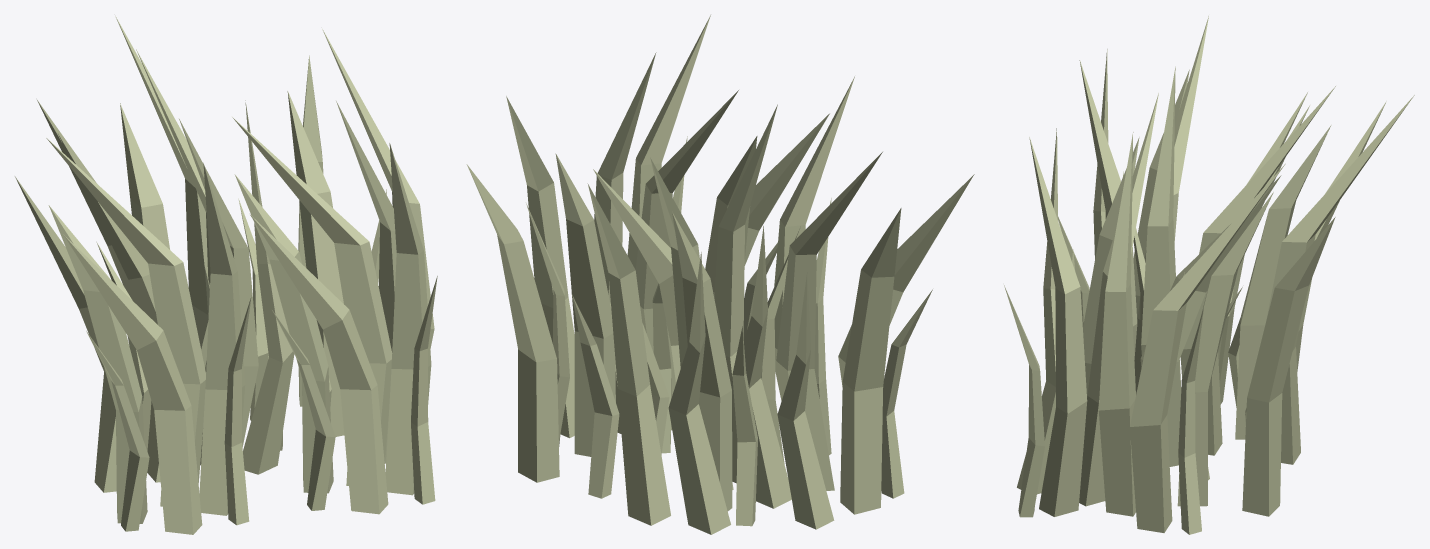
Rendered from 01_01Grass_Brown.fbx.
The picture shows the model from 3 angles, left to right: view 1: azimuth 30°, elevation 25°; view 2: azimuth 150°, elevation 25°; view 3: azimuth 270°, elevation 25°; orthographic projection. The views are drawn at different scales.
Visible parts, largest first — view 1: Icosphere.063; view 2: Icosphere.063; view 3: Icosphere.063.
Boxes of the visible parts, x1,y1,x2,y2 form: Icosphere.063: (15, 16, 437, 534); Icosphere.063: (466, 15, 974, 534); Icosphere.063: (1004, 16, 1414, 534).
Bounding box in the file's own units: 56.37 × 52.36 × 52.93.
